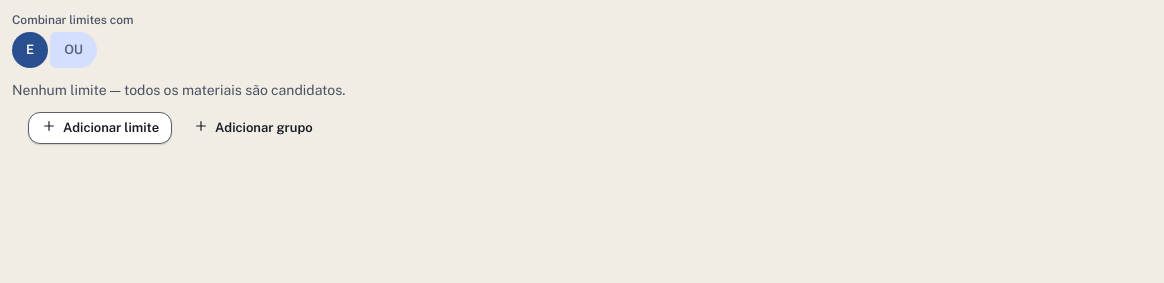
Test: ConstraintEditor — grupos aninhados (M6) › adding a nested group renders it indented under its parent
Click the button "Adicionar grupo" at x=253, y=128, box [180,112,326,144]
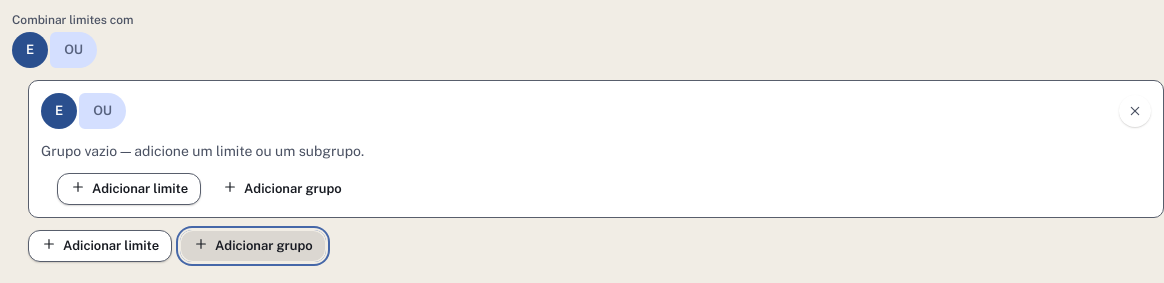
Check: the number of buttons "Adicionar grupo" is 2, box [209,173,355,205]; [180,230,326,262]
